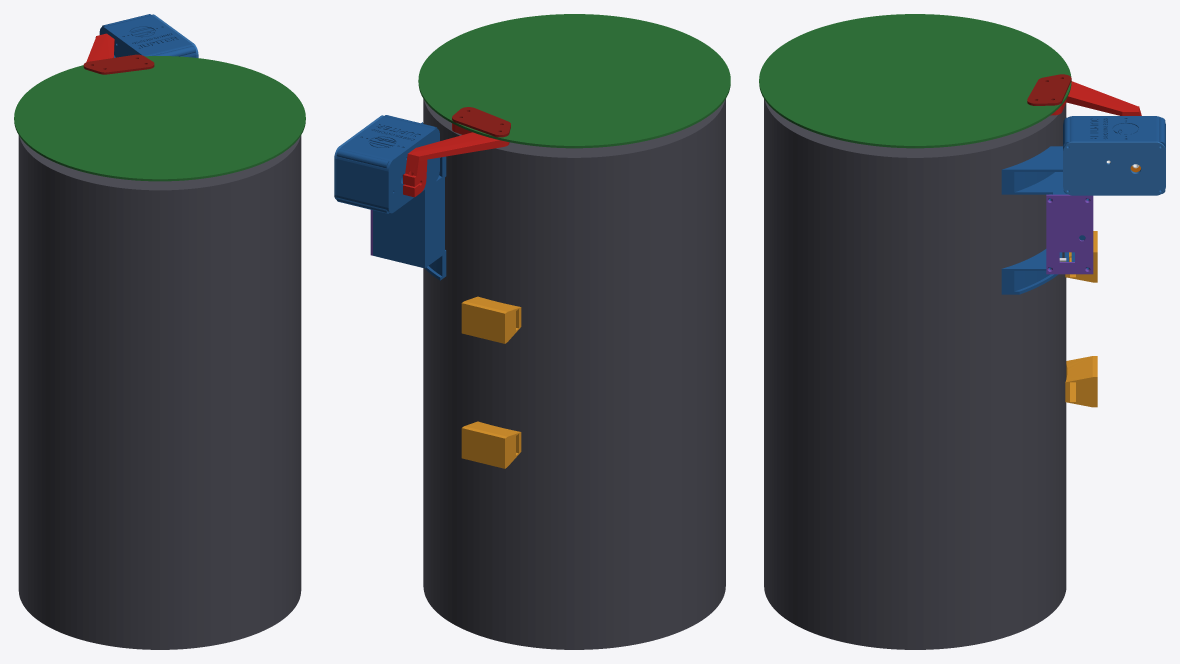
The model's file is GP1_V6_assieme.dae.
The picture shows the model from 3 angles, left to right: view 1: azimuth 30°, elevation 25°; view 2: azimuth 150°, elevation 25°; view 3: azimuth 270°, elevation 25°; orthographic projection. The views are drawn at different scales.
Parts seen in each view (by area): view 1: tubo, tappo, housing, cap_backplate, mono_arm; view 2: tubo, tappo, housing, mono_arm, cap_rest, cap_rest_2, cap_backplate; view 3: tubo, tappo, housing, cover, bay_lid, cap_rest_2, mono_arm, cap_backplate.
Part boxes in pixels (<box>): tubo: <box>18,135,301,649</box>; tappo: <box>14,56,305,181</box>; housing: <box>99,14,196,57</box>; cap_backplate: <box>83,54,154,74</box>; mono_arm: <box>86,33,114,62</box>; tubo: <box>423,99,725,649</box>; tappo: <box>418,14,730,148</box>; housing: <box>336,115,446,280</box>; mono_arm: <box>403,123,509,197</box>; cap_rest: <box>461,296,521,343</box>; cap_rest_2: <box>461,421,521,468</box>; cap_backplate: <box>452,107,510,137</box>; tubo: <box>764,99,1066,649</box>; tappo: <box>759,14,1071,148</box>; housing: <box>1001,116,1165,294</box>; cover: <box>1063,141,1165,195</box>; bay_lid: <box>1046,194,1093,274</box>; cap_rest_2: <box>1065,356,1097,407</box>; mono_arm: <box>1050,81,1141,115</box>; cap_backplate: <box>1027,74,1071,105</box>.
Size of the model in its own units: 374 by 487 by 672.
